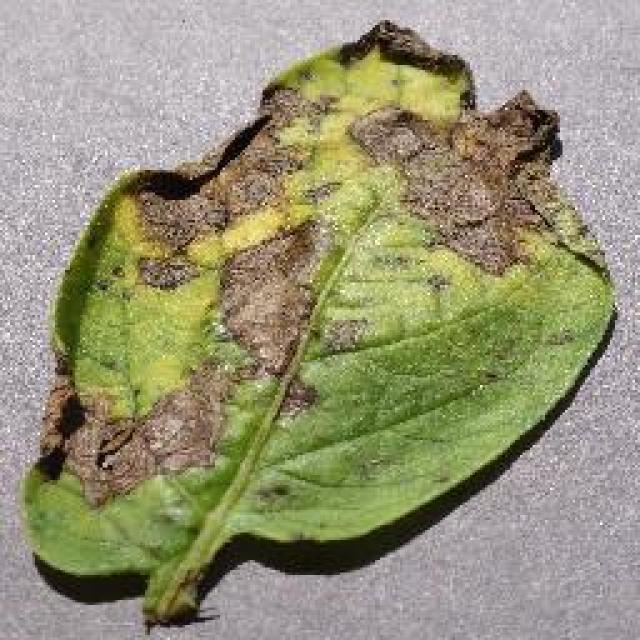early_blight: (15, 18, 620, 628)
